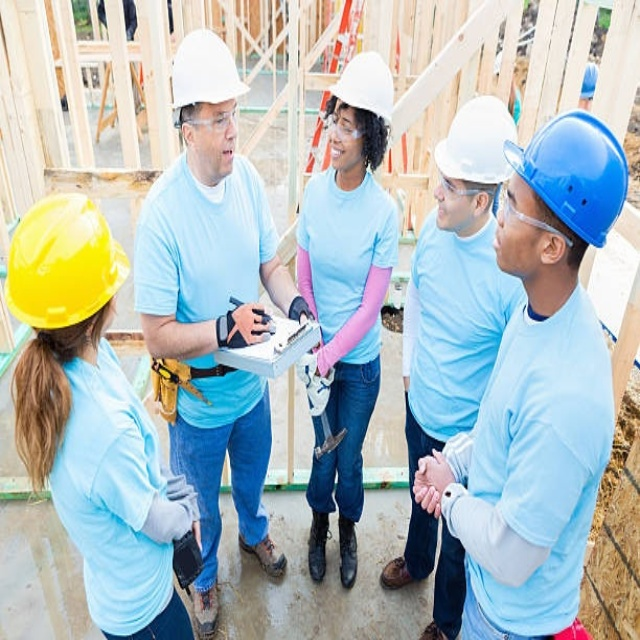Gafas: (500, 173, 558, 238), (179, 104, 244, 132), (433, 171, 486, 199), (324, 110, 366, 144)
Guantes: (214, 298, 276, 355)
Sin_guantes: (410, 439, 452, 518)
Sin_mascara: (493, 224, 516, 275), (211, 141, 235, 171), (434, 202, 451, 231), (327, 143, 343, 171)
